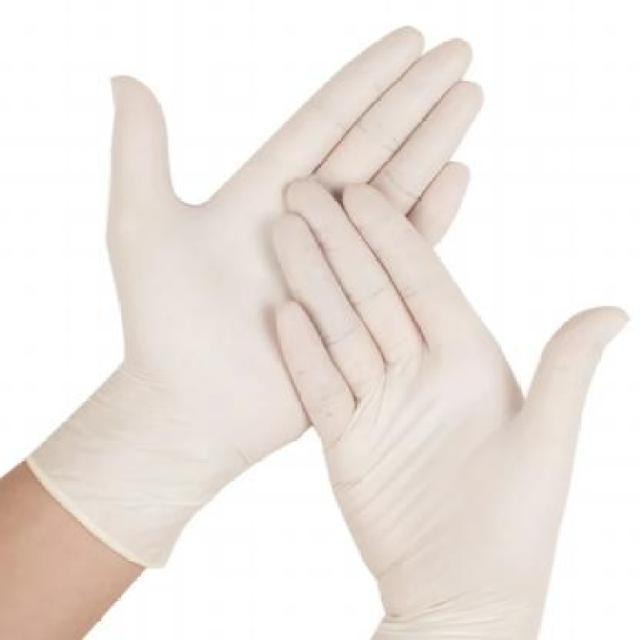glove_hand: (53, 22, 627, 640)
